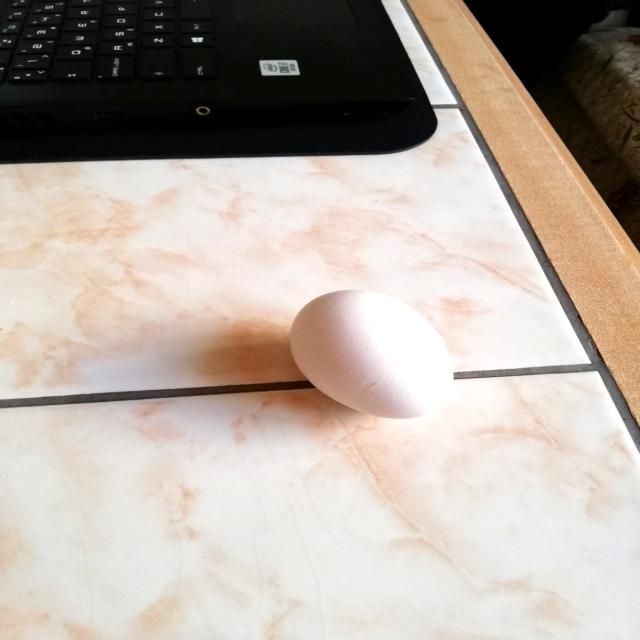egg: (285, 283, 458, 422)
